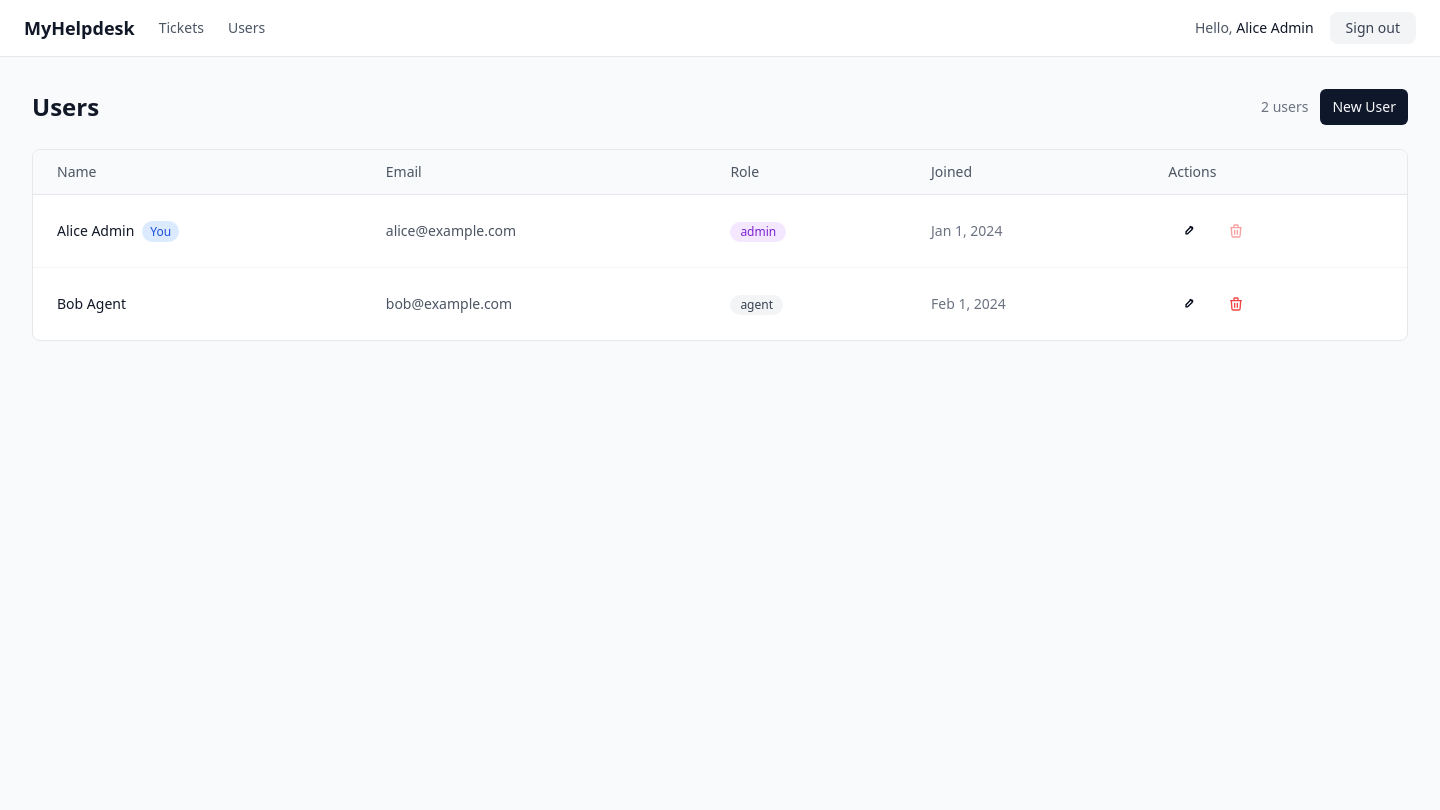
UsersPage › delete › shows the delete confirmation modal when Delete is clicked
Expected: the text "Bob Agent" is shown, 33,268 -> 362,340
What coordinates should you click on to do the following:
click the button named "Delete" in the row of "Bob Agent"
I would click on:
 (1236, 304)
Its box is 1216,284 -> 1256,324.
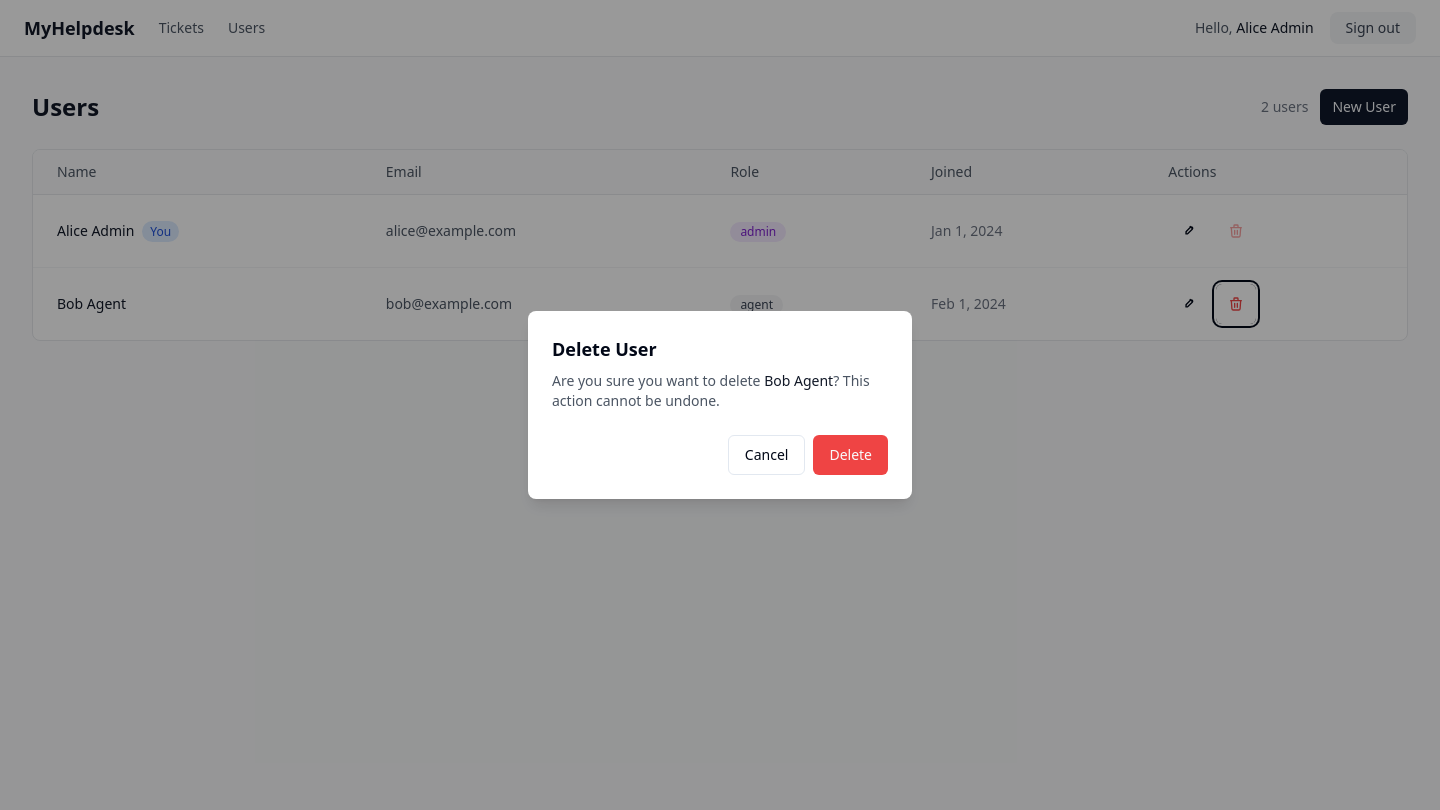
Expected: the heading "Delete User" is shown, 552,337 -> 657,361
Expected: the text "Bob Agent" is shown, 764,371 -> 833,390
